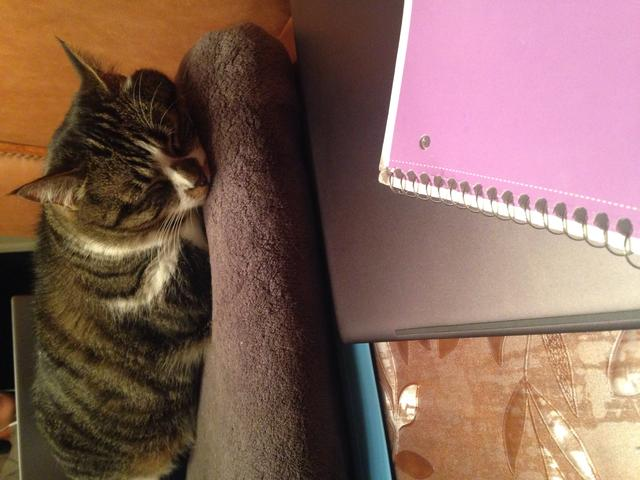playdoh: (1, 35, 217, 480)
